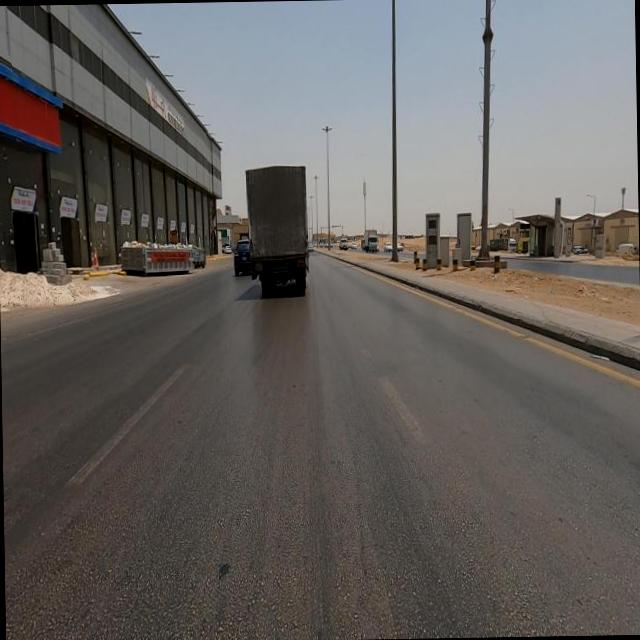debris: (104, 220, 183, 270), (153, 224, 214, 276), (558, 260, 608, 315), (477, 252, 510, 298), (519, 259, 550, 301), (538, 270, 564, 314)
